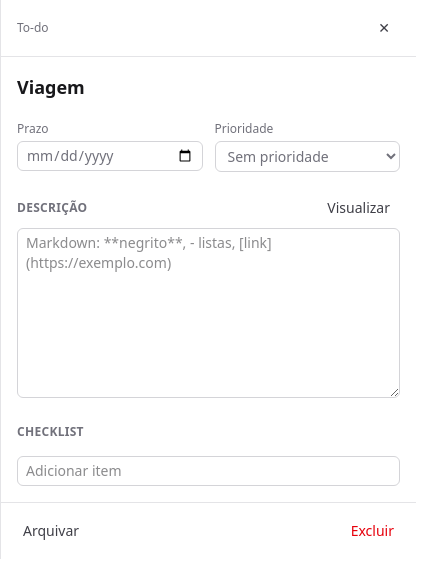
Test: CardPanel › título vazio é recusado e volta ao anterior
The width and height of the screenshot is (433, 576).
Clear the field named "Título" at (208,87), box top-left (17, 73), bottom-right (400, 101)
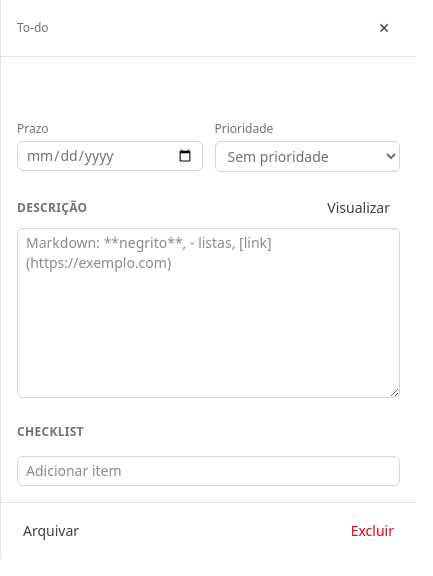
Press Tab
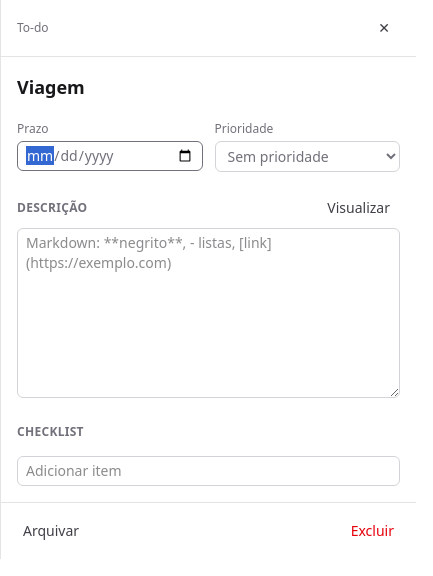
Now the field named "Título" holds "Viagem", box top-left (17, 73), bottom-right (400, 101)
